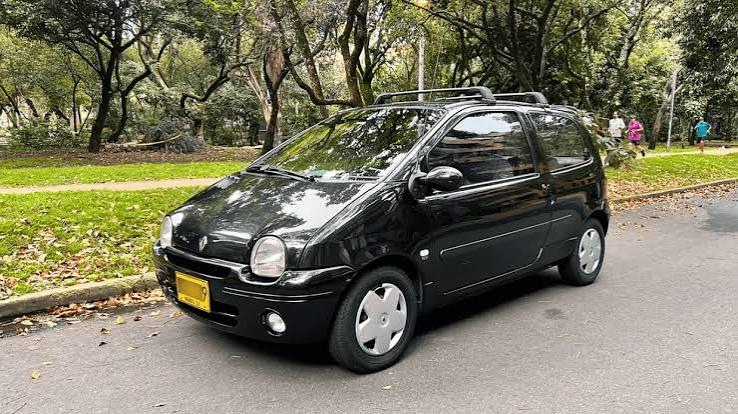car: (148, 95, 619, 378)
